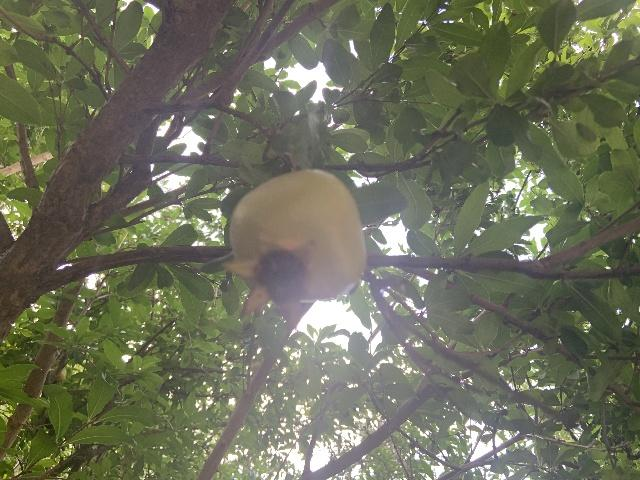mid-growth: (222, 169, 367, 333)
